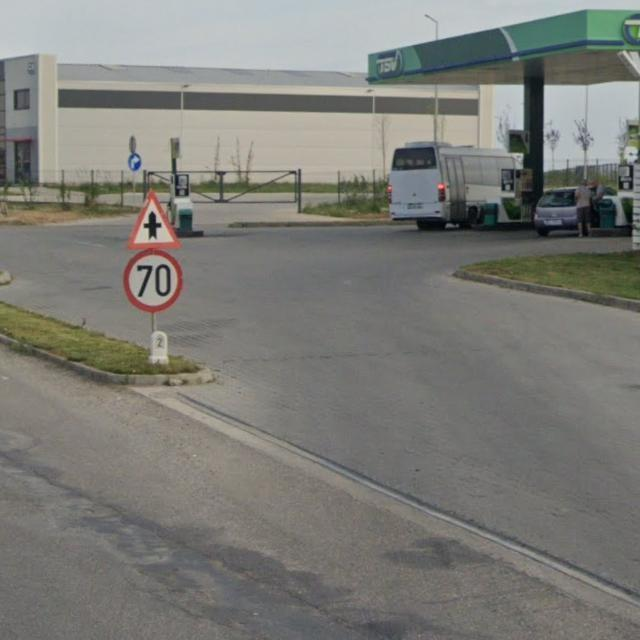forb_speed_over_70: (123, 250, 184, 312)
